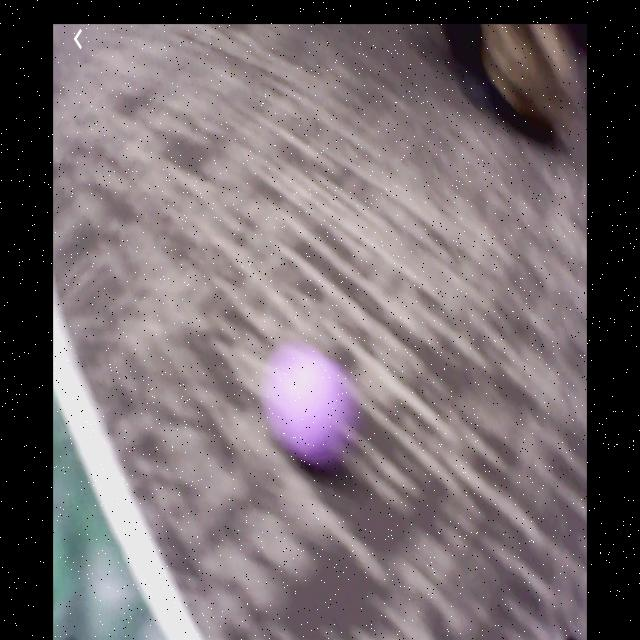ball: (269, 343, 345, 461)
